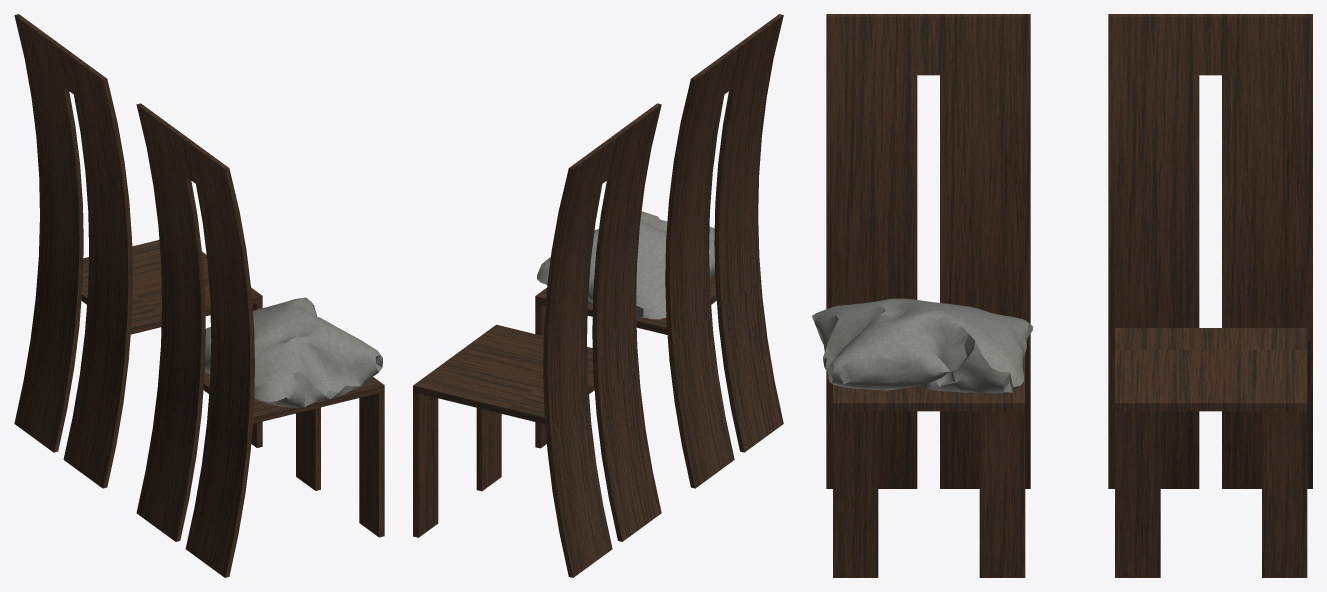
The model's file is chair2.glb.
3 views of the same model, side by side, from view 1: azimuth 30°, elevation 25°; view 2: azimuth 150°, elevation 25°; view 3: azimuth 270°, elevation 25° (orthographic). The views are drawn at different scales.
Parts seen in each view (by area): view 1: Object_2; view 2: Object_2; view 3: Object_2.
Part boxes in pixels (x1,y1,x2,y2): Object_2: (14, 14, 384, 577); Object_2: (413, 14, 783, 577); Object_2: (812, 14, 1312, 577).
Size of the model in its own units: 0.7751 by 1.82 by 1.75.
Materials: 1 (1 with a texture image).
